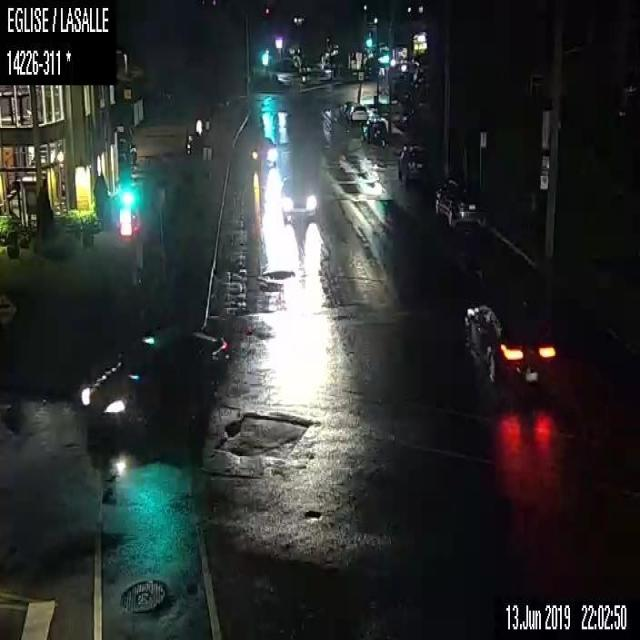vehicle: (78, 324, 230, 425), (464, 297, 560, 383), (434, 179, 486, 228), (278, 175, 317, 221), (395, 140, 430, 180), (245, 135, 278, 168), (361, 117, 387, 144), (267, 64, 292, 84), (347, 102, 368, 122)
